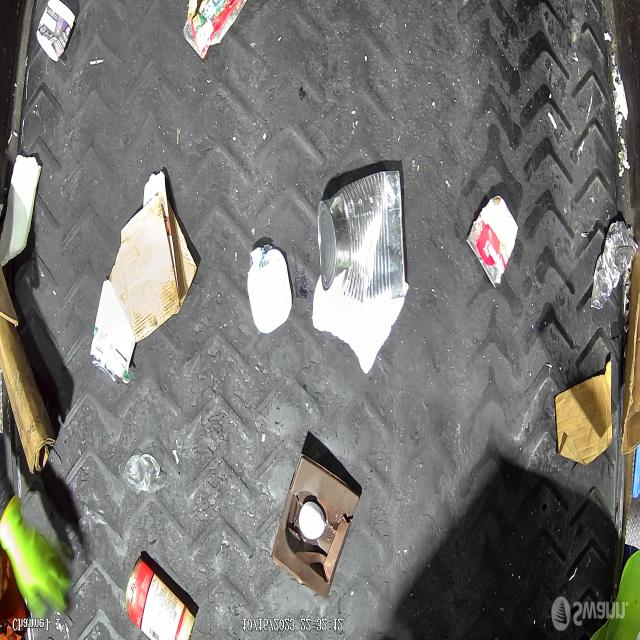can: (317, 169, 405, 301), (90, 280, 136, 388), (467, 194, 519, 287), (591, 220, 638, 310)
